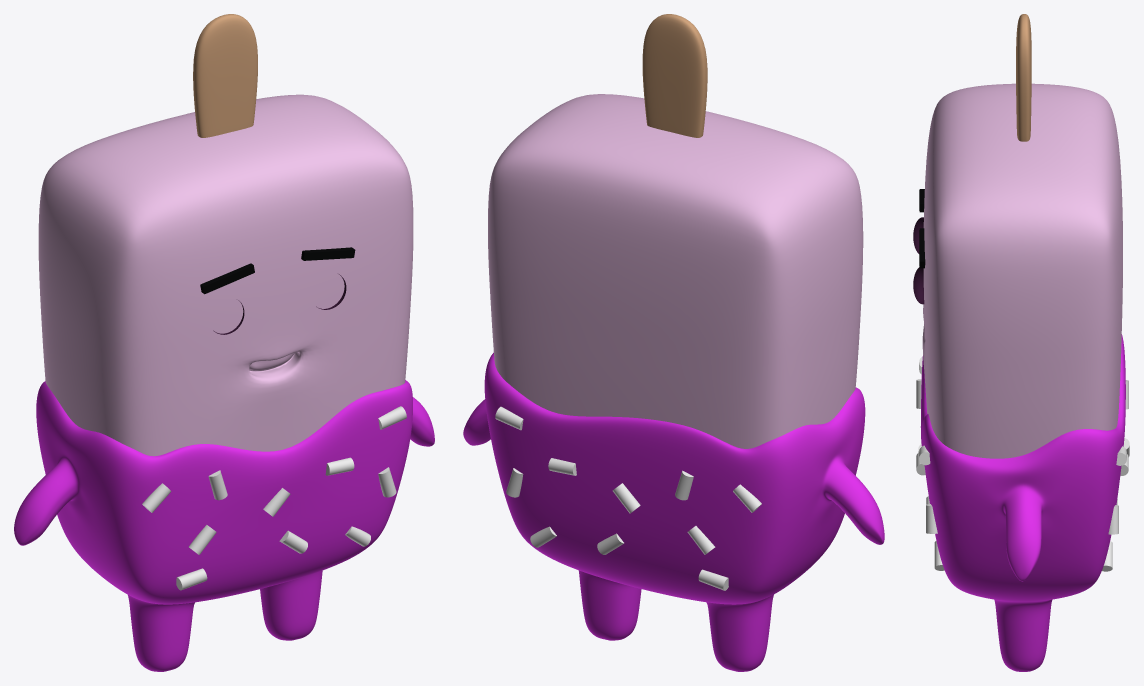
File: eskrim warna.fbx
3 views of the same model, side by side, from view 1: azimuth 30°, elevation 25°; view 2: azimuth 150°, elevation 25°; view 3: azimuth 270°, elevation 25° (orthographic). The views are drawn at different scales.
Visible parts, largest first — view 1: Cube, Cube.001, Plane, Kubus; view 2: Cube, Cube.001, Plane; view 3: Cube, Cube.001, Plane, Sphere, Kubus.
Part boxes in pixels (left/top/right/bottom): Cube: left=38, top=94, right=413, bottom=456; Cube.001: left=14, top=380, right=434, bottom=671; Plane: left=193, top=14, right=257, bottom=137; Kubus: left=200, top=247, right=355, bottom=294; Cube: left=488, top=94, right=863, bottom=448; Cube.001: left=463, top=352, right=884, bottom=671; Plane: left=642, top=14, right=707, bottom=137; Cube: left=922, top=83, right=1122, bottom=458; Cube.001: left=920, top=334, right=1125, bottom=671; Plane: left=1016, top=14, right=1031, bottom=141; Sphere: left=913, top=217, right=924, bottom=304; Kubus: left=919, top=189, right=925, bottom=268.
Bounding box in the file's own units: 291 × 425 × 134.
